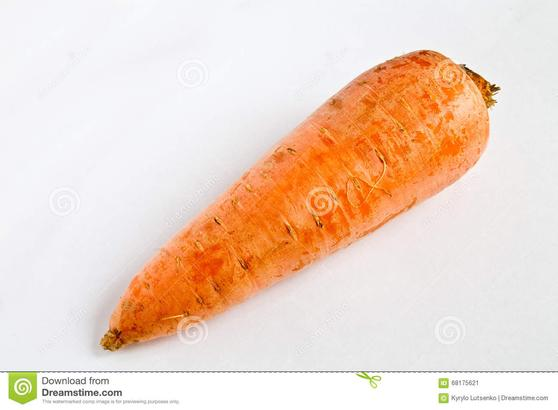carrot: (87, 52, 493, 356)
